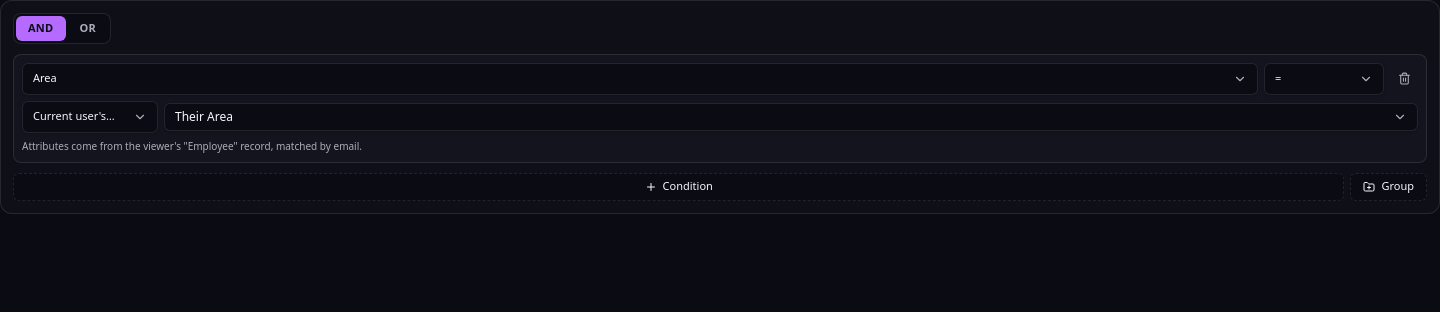
Test: FilterBuilder viewer modes › renders the current_user attribute picker with the account attributes and the hint
Expected: the text "matched by email" is shown, [22, 138, 362, 152]
Press the mouse on the dropdown labelled "Their Area" at (204, 116), box [164, 102, 1418, 130]
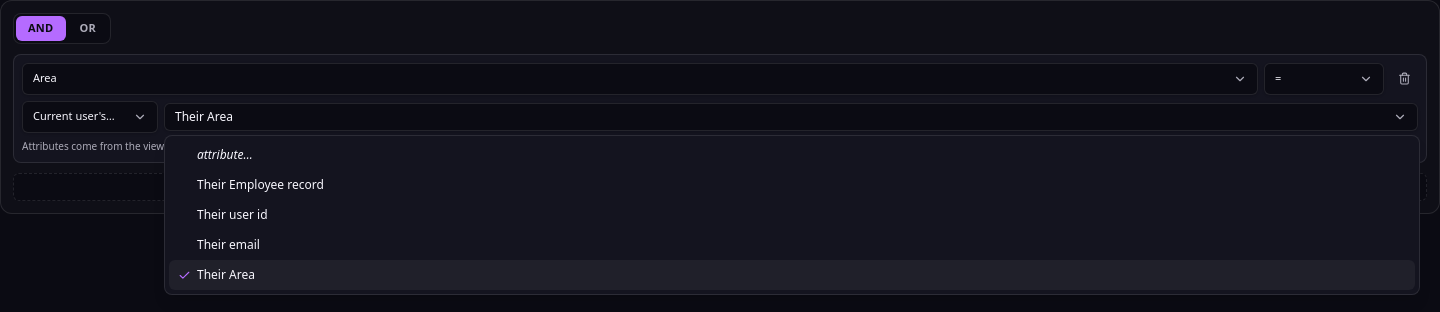
Expected: the option "Their Employee record" is shown, [197, 176, 324, 193]
Expected: the option "Their email" is shown, [197, 236, 260, 253]
